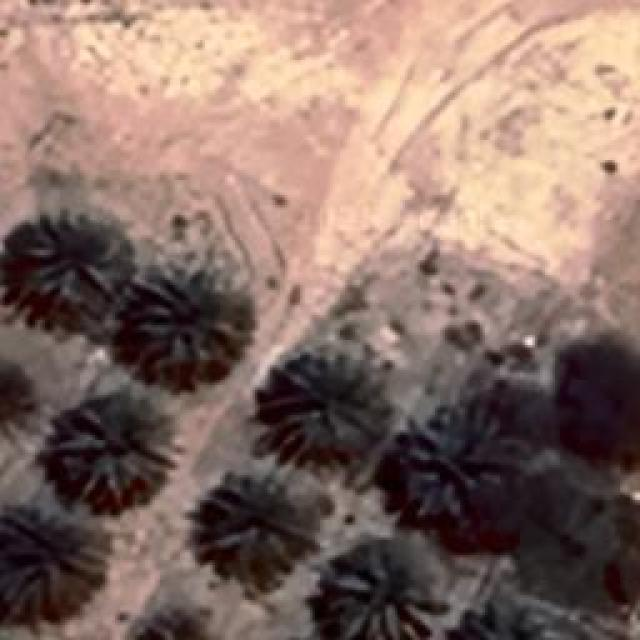PalmTree: (50, 382, 180, 510), (258, 350, 390, 458), (135, 260, 255, 378), (0, 504, 100, 628), (397, 408, 505, 518), (324, 540, 448, 635), (195, 485, 308, 580), (14, 217, 124, 307), (429, 594, 560, 640), (126, 605, 216, 640)
